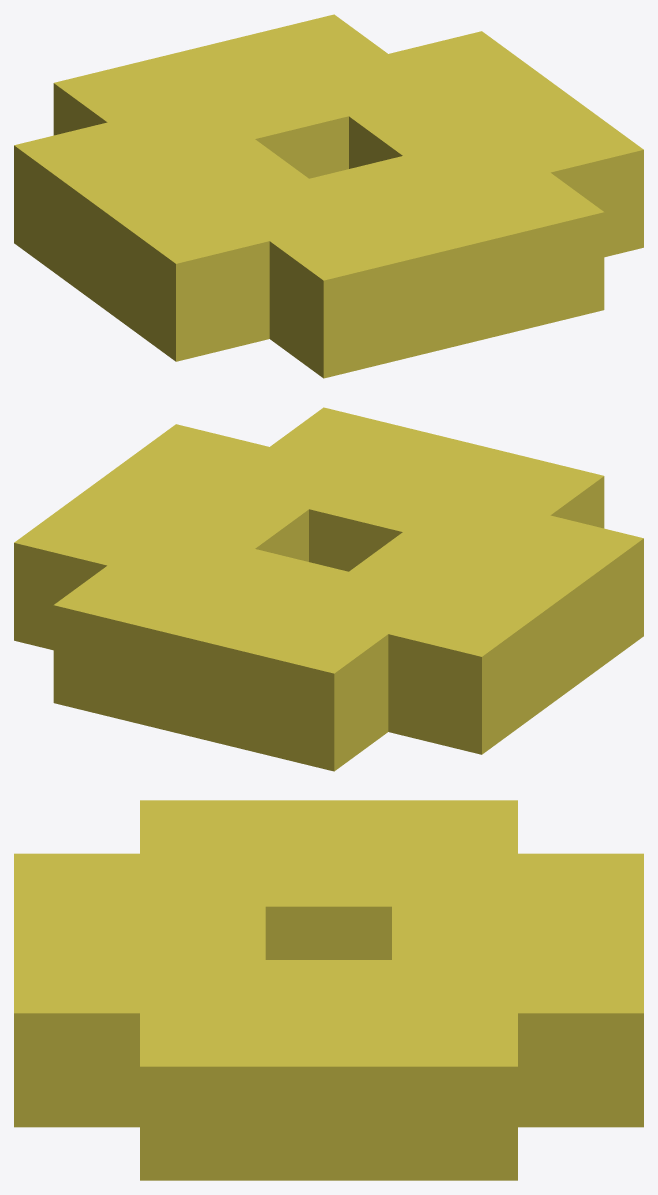
File: coin.glb
The picture shows the model from 3 angles, top to bottom: view 1: azimuth 30°, elevation 25°; view 2: azimuth 150°, elevation 25°; view 3: azimuth 270°, elevation 25°; orthographic projection. The views are drawn at different scales.
Parts seen in each view (by area): view 1: Mesh_Mesh_head_geo.001_lambert2SG.001; view 2: Mesh_Mesh_head_geo.001_lambert2SG.001; view 3: Mesh_Mesh_head_geo.001_lambert2SG.001.
Boxes of the visible parts, <box> form: Mesh_Mesh_head_geo.001_lambert2SG.001: <box>14,14,643,378</box>; Mesh_Mesh_head_geo.001_lambert2SG.001: <box>14,407,643,771</box>; Mesh_Mesh_head_geo.001_lambert2SG.001: <box>14,800,643,1180</box>.
Size of the model in its own units: 10 by 2 by 10.
